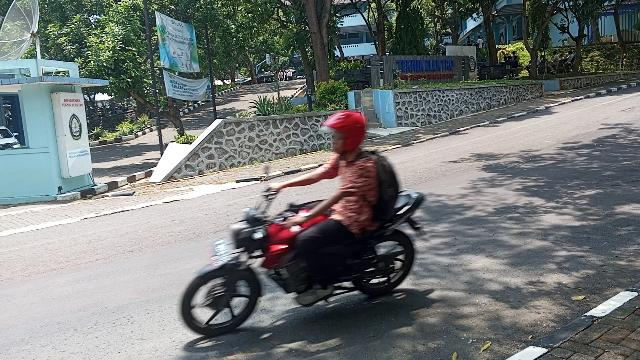helm: (322, 113, 367, 153)
motor: (182, 195, 427, 335)
